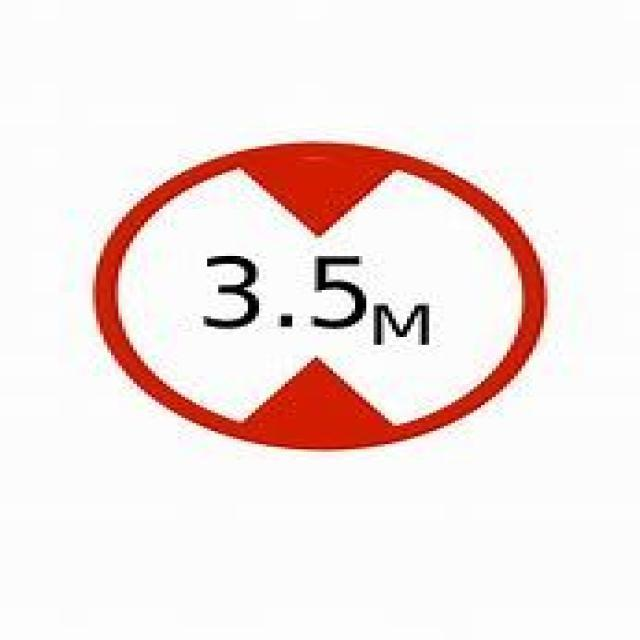height limit: (93, 140, 542, 450)
